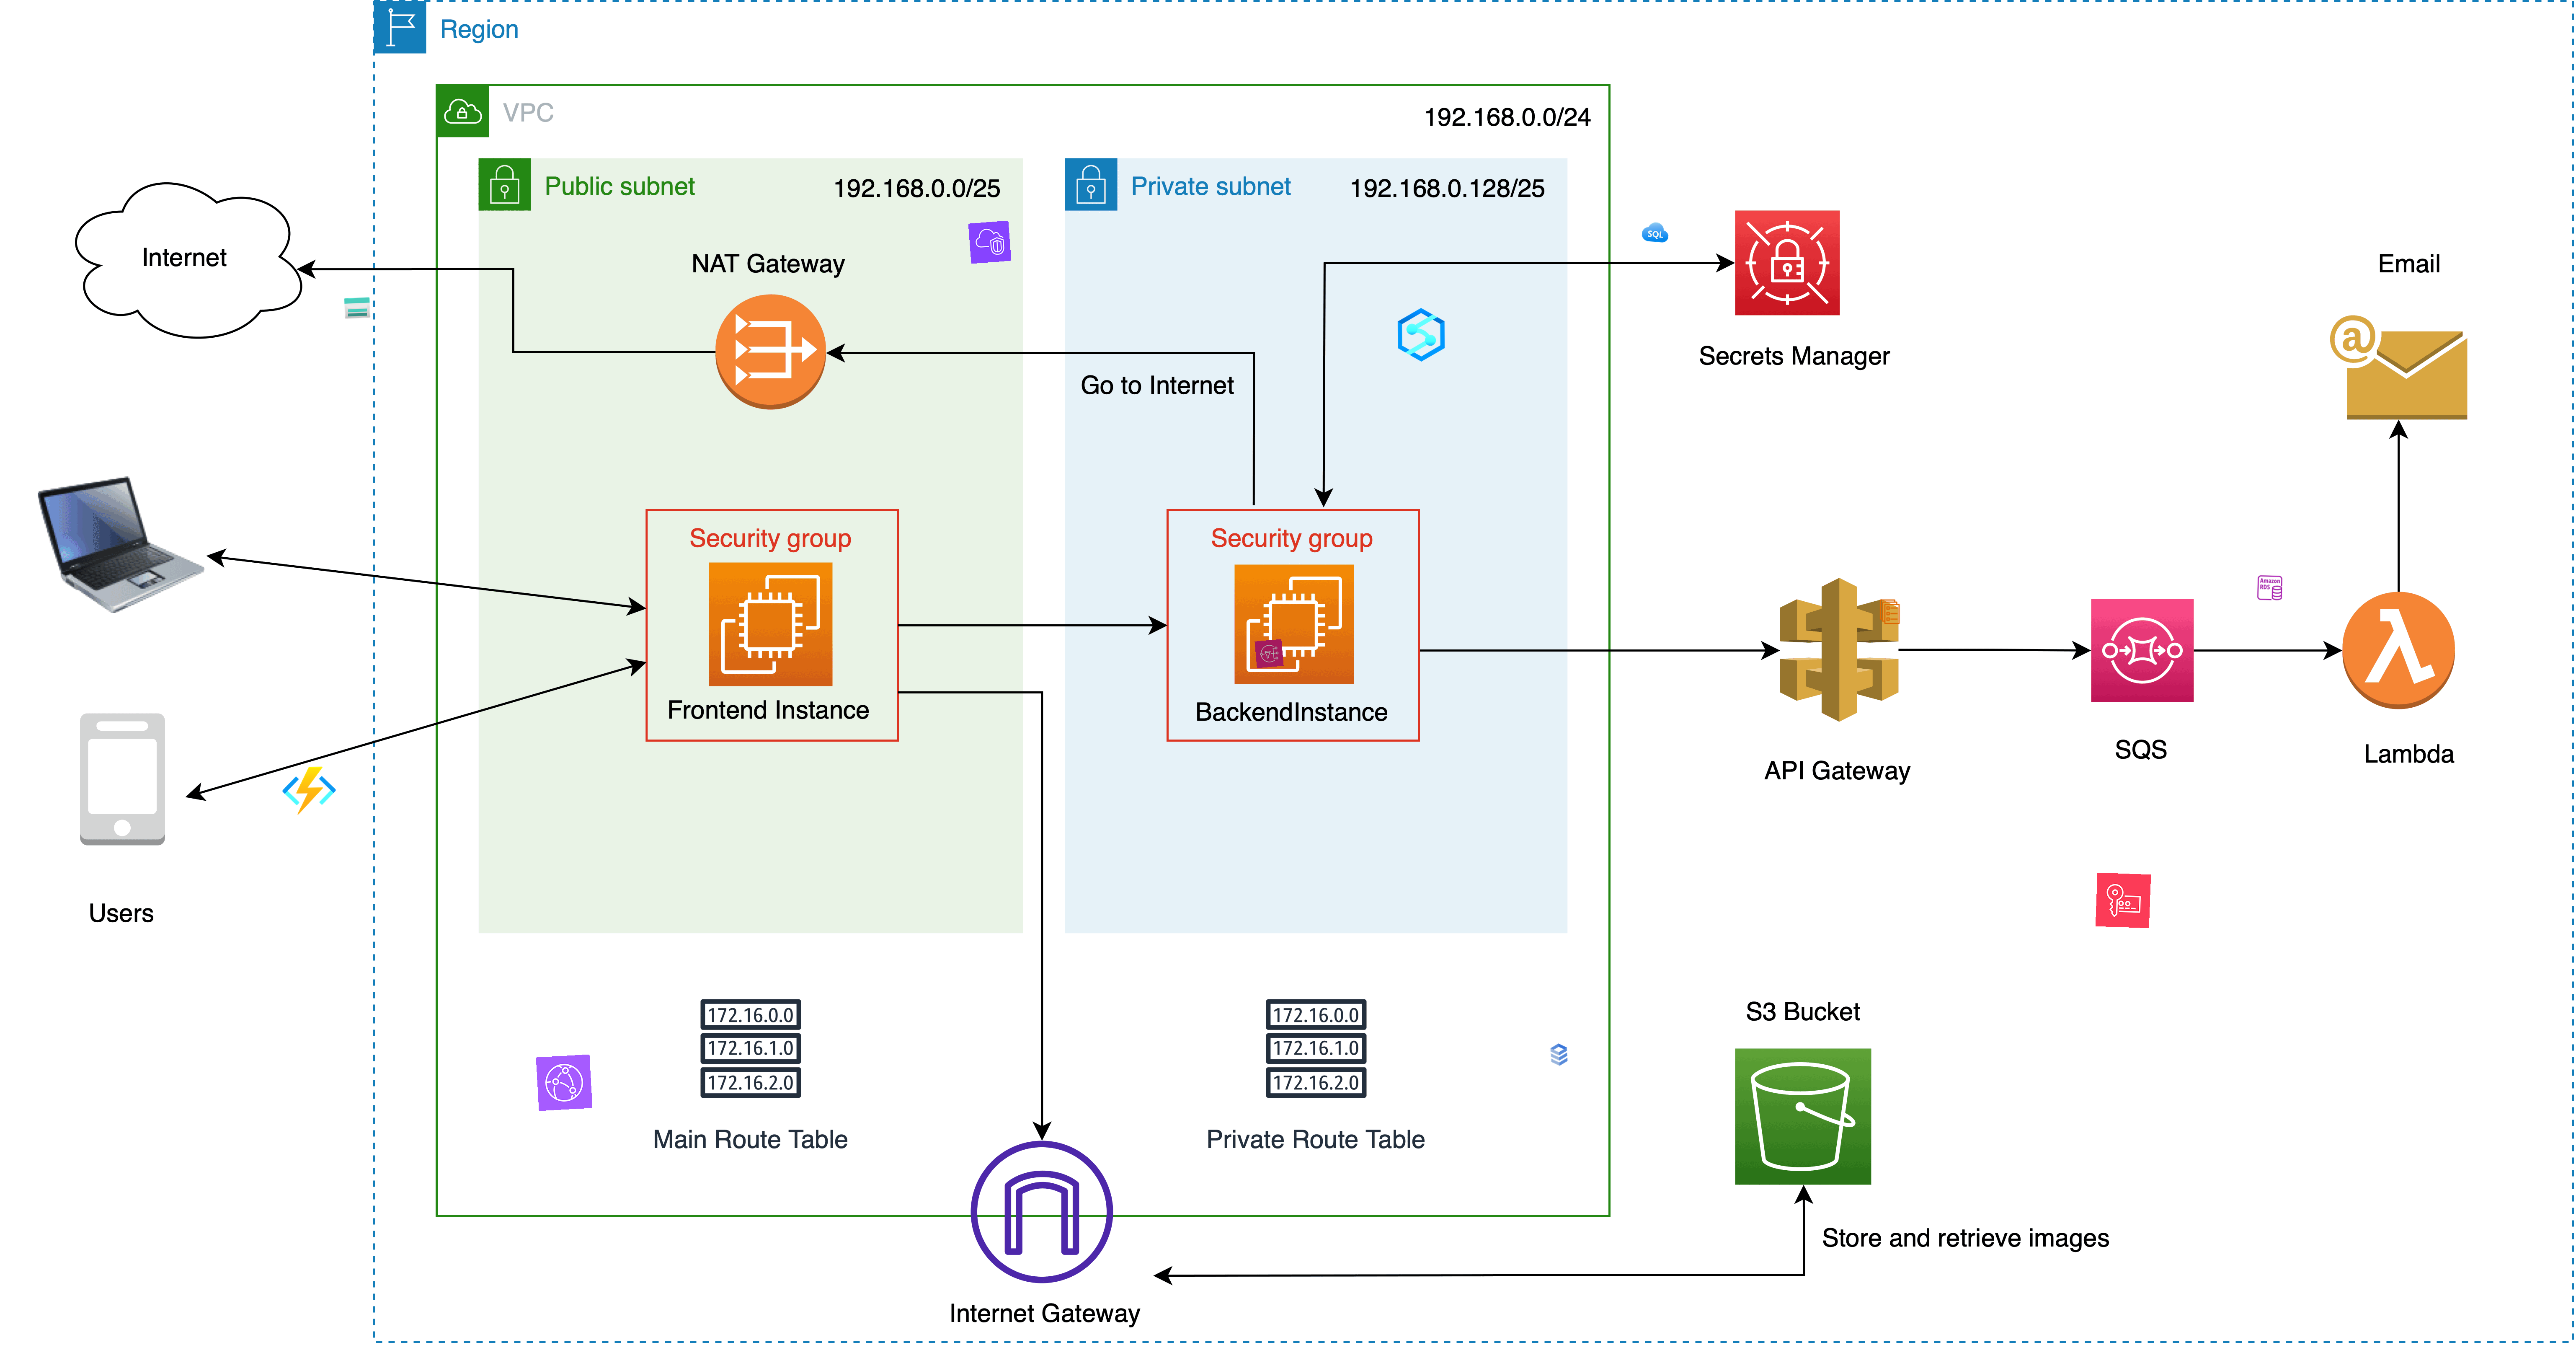aws_amazon_cloudfront: (535, 1053, 593, 1111)
aws_amazon_simple_notification_service: (1254, 639, 1285, 668)
aws_amazon_virtual_private_cloud: (968, 220, 1012, 264)
aws_aurora_amazon_rds_instance: (2256, 574, 2283, 602)
aws_elastic_container_service_service: (1876, 598, 1903, 626)
aws_key_management_service: (2096, 873, 2152, 929)
azure_function_apps: (281, 764, 337, 818)
azure_sql: (1641, 218, 1670, 247)
azure_storage_accounts: (342, 293, 371, 322)
azure_synapse_analytics: (1394, 307, 1448, 361)
gcp_cloud_sql: (1545, 1040, 1573, 1069)
